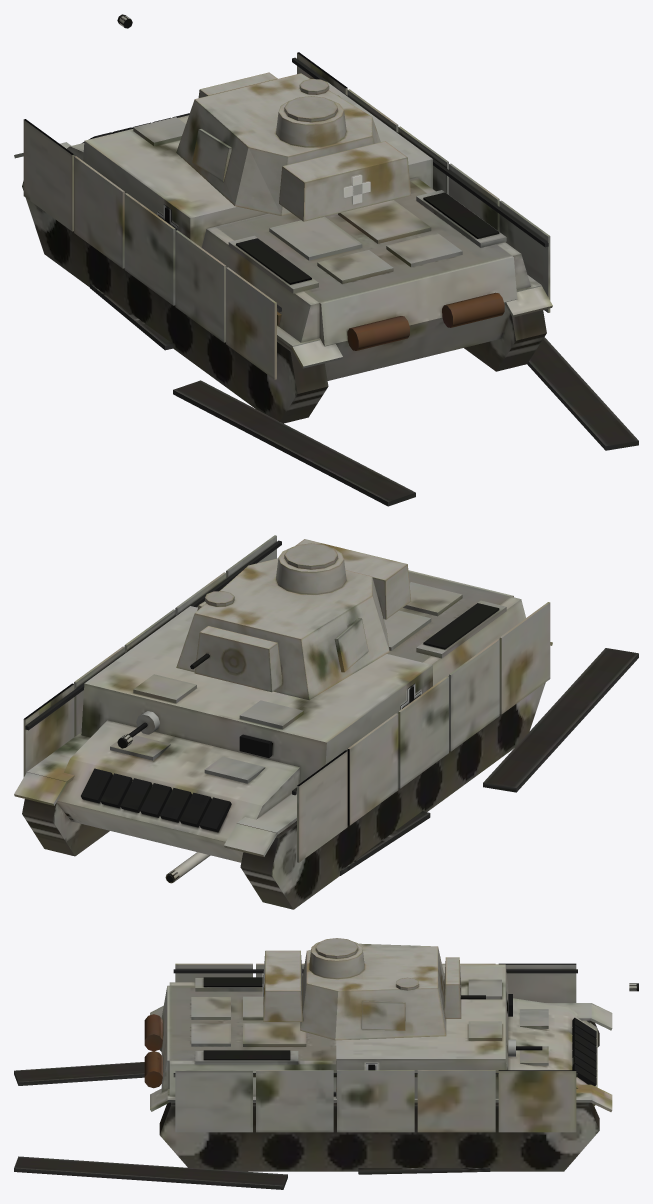
File: flammpanzer3_winter.glb
3 renders of one model, top to bottom at view 1: azimuth 30°, elevation 25°; view 2: azimuth 150°, elevation 25°; view 3: azimuth 270°, elevation 25°, orthographic. The views are drawn at different scales.
Parts seen in each view (by area): view 1: hull_ok, turret_ok, hull_trackL, hull_trackR; view 2: hull_ok, turret_ok, hull_trackL; view 3: hull_ok, turret_ok, hull_trackR, hull_trackL.
Boxes of the visible parts, box(x1,y1,x2,y2) form: hull_ok: box(14, 52, 552, 423); turret_ok: box(117, 14, 411, 221); hull_trackL: box(90, 283, 415, 506); hull_trackR: box(527, 337, 638, 450); hull_ok: box(14, 535, 552, 909); turret_ok: box(117, 539, 411, 748); hull_trackL: box(340, 648, 638, 875); hull_ok: box(144, 963, 612, 1171); turret_ok: box(262, 938, 638, 1040); hull_trackR: box(14, 1156, 490, 1189); hull_trackL: box(14, 1062, 144, 1085).
Size of the model in its own units: 3.99 by 2.78 by 7.88.
Materials: 11 (11 with a texture image).
